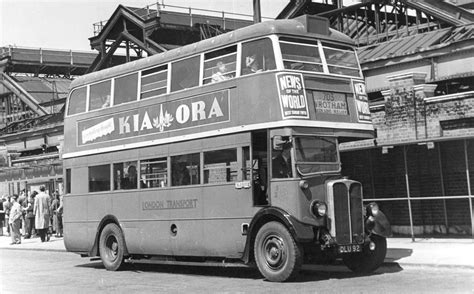bus: (65, 32, 368, 270)
person: (34, 188, 52, 243), (8, 197, 21, 244), (272, 148, 292, 178), (211, 61, 233, 80), (121, 167, 140, 187)
